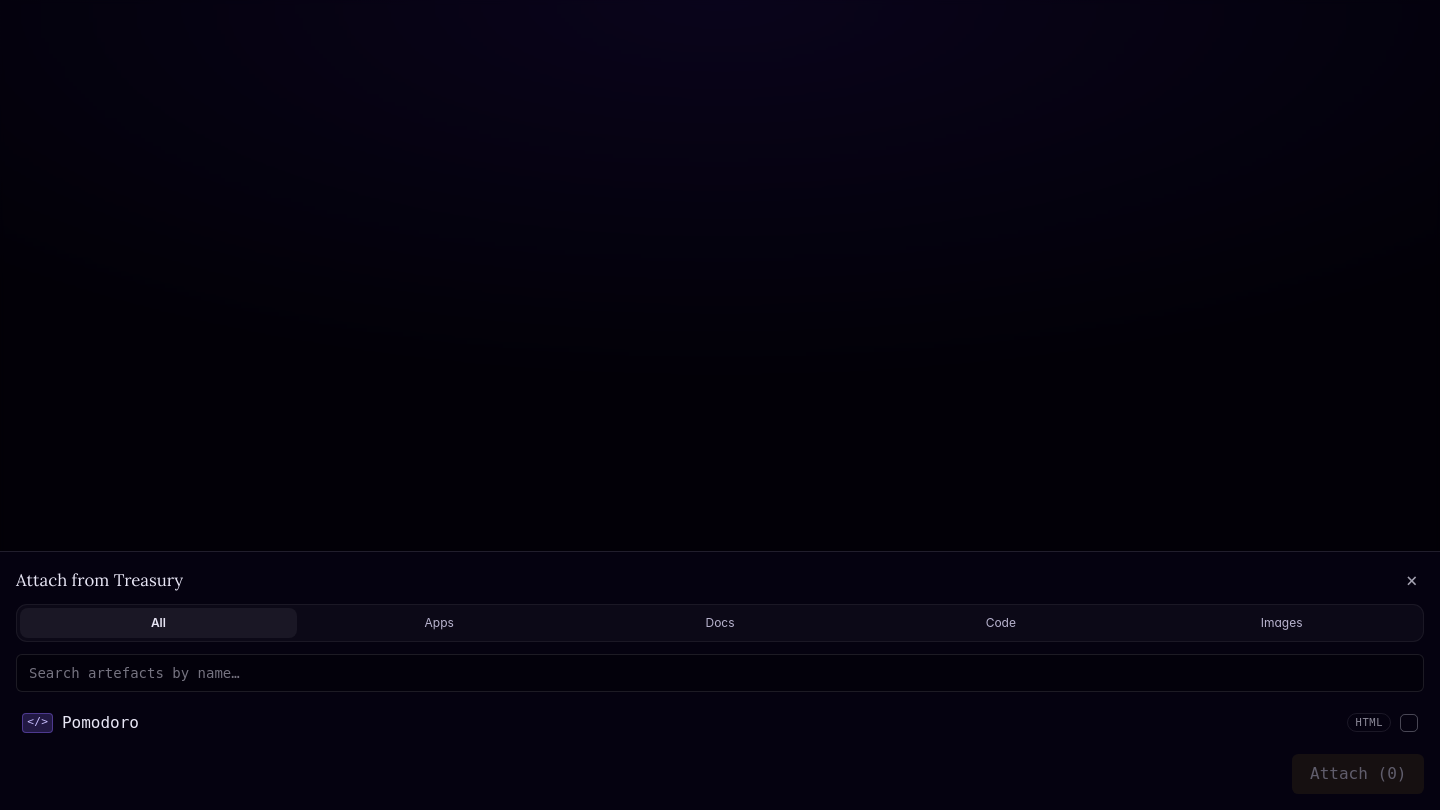
Test: ArtefactPicker › Attach is disabled until something is selected; the count reflects selection
Expected: the button "Attach (0)" is disabled, [1292, 754, 1424, 794]
Expected: the button "Attach (0)" is shown, [1292, 754, 1424, 794]
Click the text "Pomodoro" at (100, 722), box [62, 713, 139, 732]
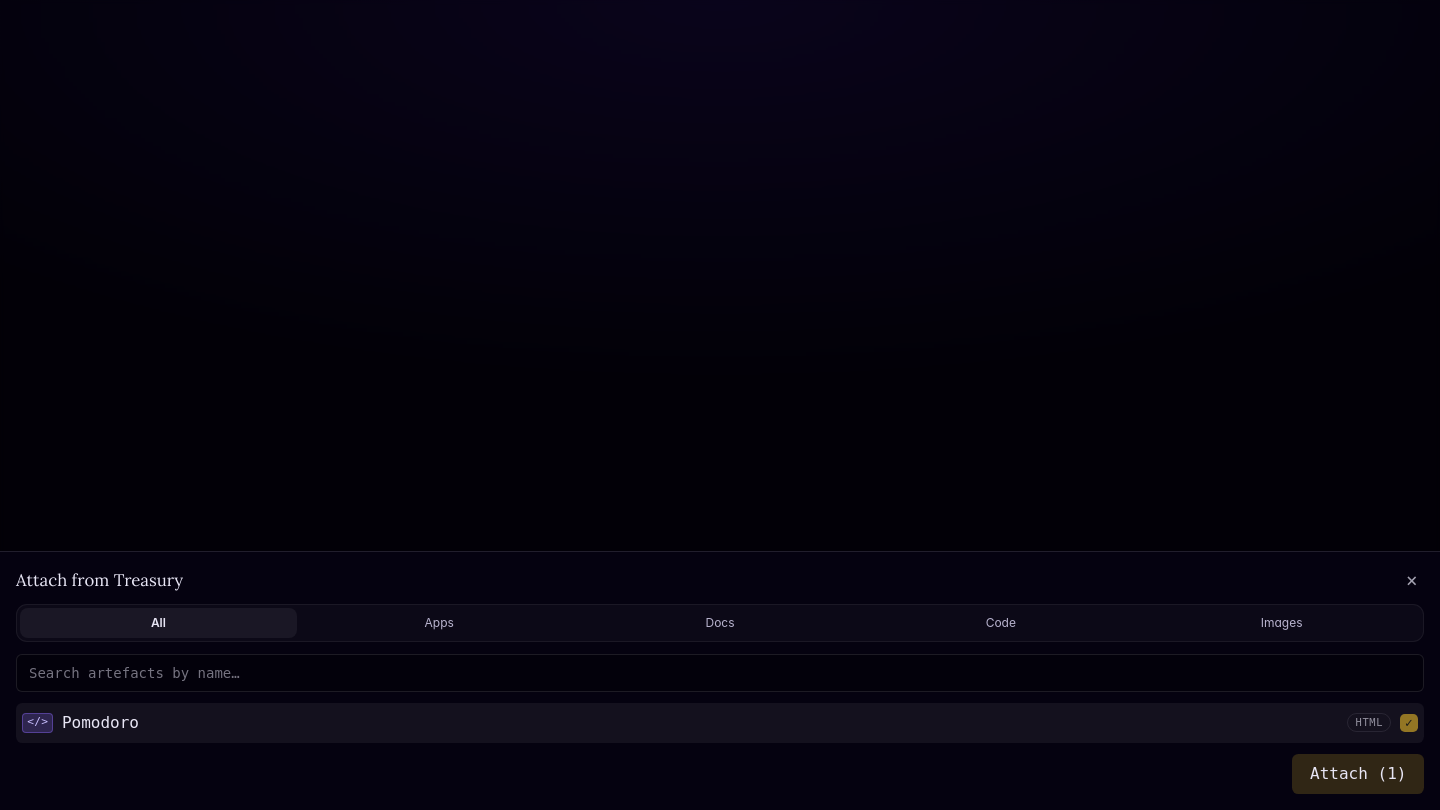
Result: the button "Attach (1)" is enabled at [1292, 754, 1424, 794]
Result: the button "Attach (1)" is shown at [1292, 754, 1424, 794]
